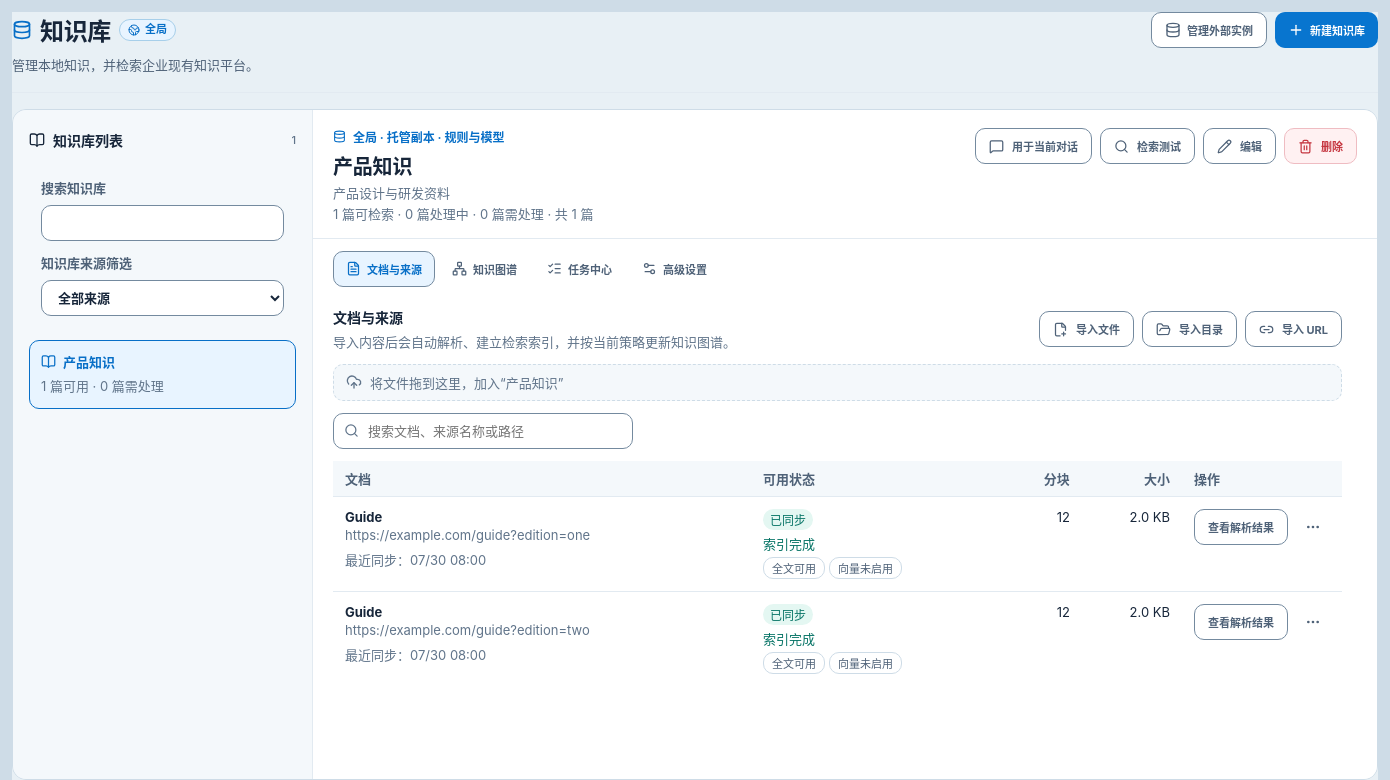
Test: KnowledgeWorkspace › distinguishes merged URLs with the same title and keeps secondary actions in a keyboard menu
The image size is (1390, 780).
Expected: the text "https://example.com/guide?edition=one" is shown, [345, 525, 625, 545]
Expected: the button "查看解析结果" in the row of "https://example.com/guide?edition=one" is shown, [1194, 509, 1288, 545]
Click the button named "Guide 的更多操作" in the row of "https://example.com/guide?edition=two" at point(1313, 622), box [1296, 605, 1330, 639]
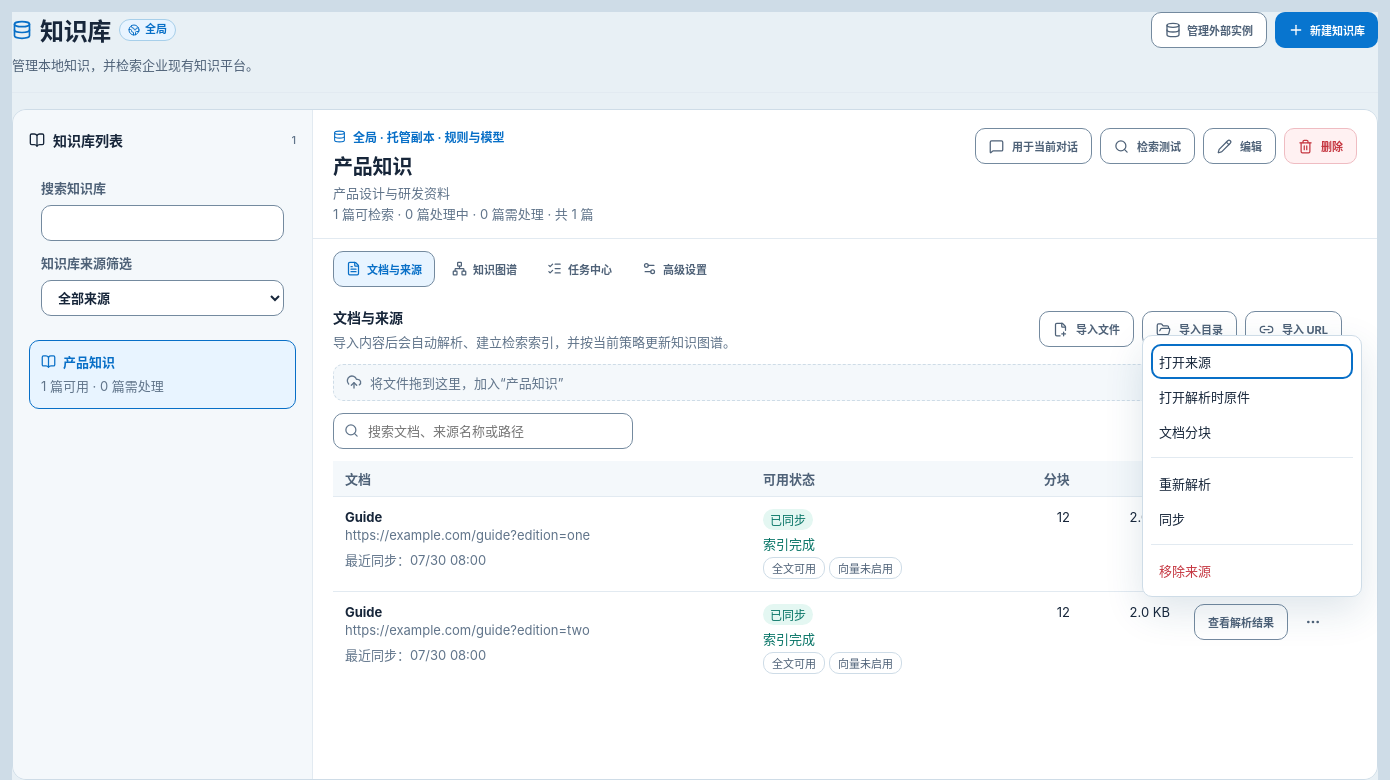
Press End in the menu item "打开来源", box [1151, 344, 1353, 379]
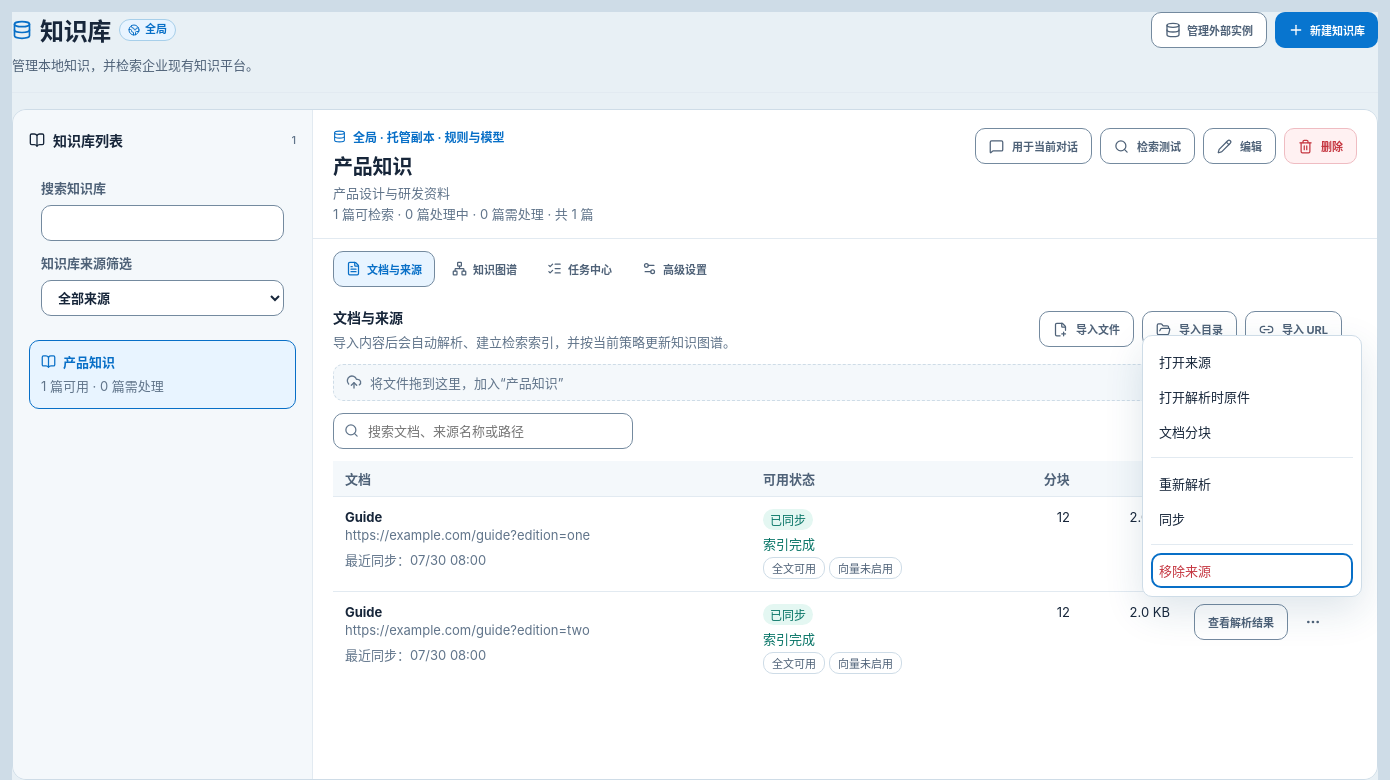
Press Escape in the menu item "移除来源", box [1151, 553, 1353, 588]
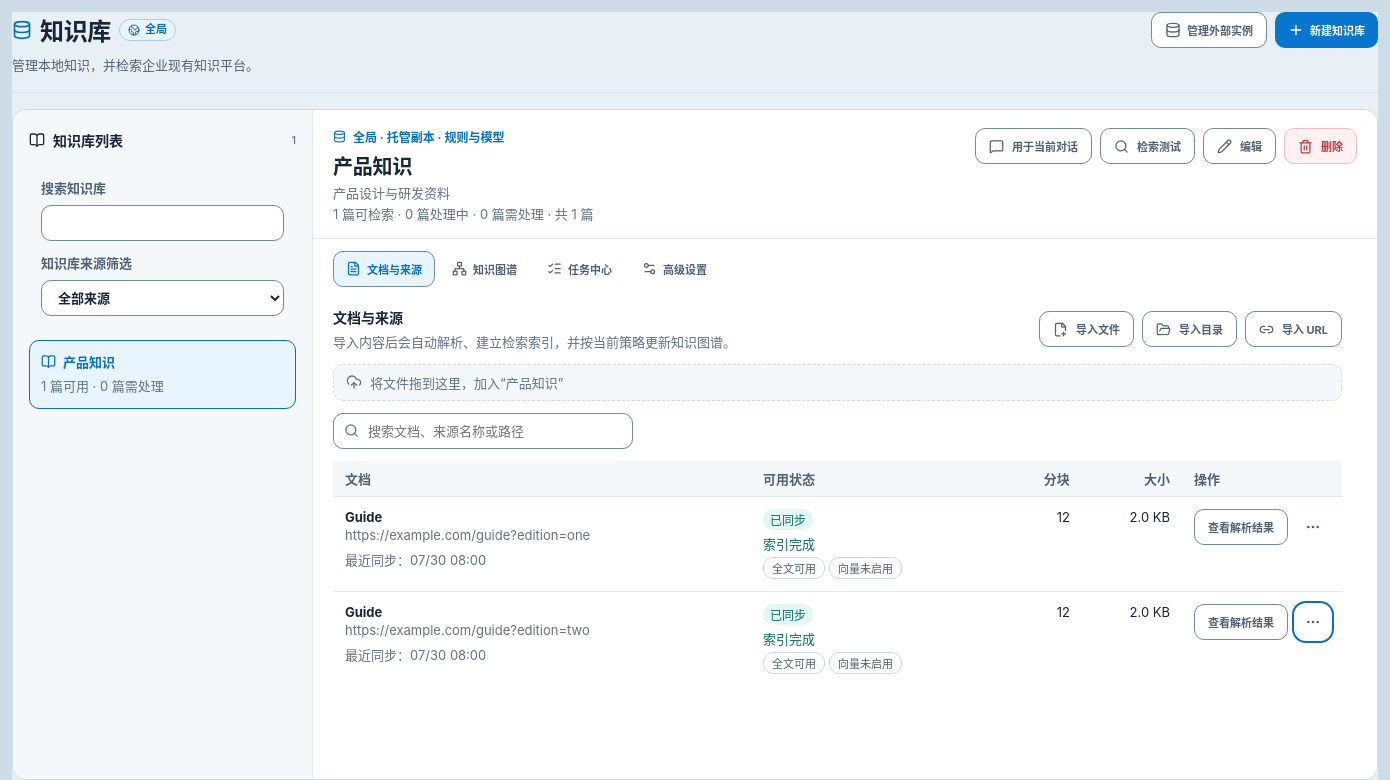
Now the menu is gone
Click the button named "Guide 的更多操作" in the row of "https://example.com/guide?edition=two" at point(1313, 622), box [1296, 605, 1330, 639]
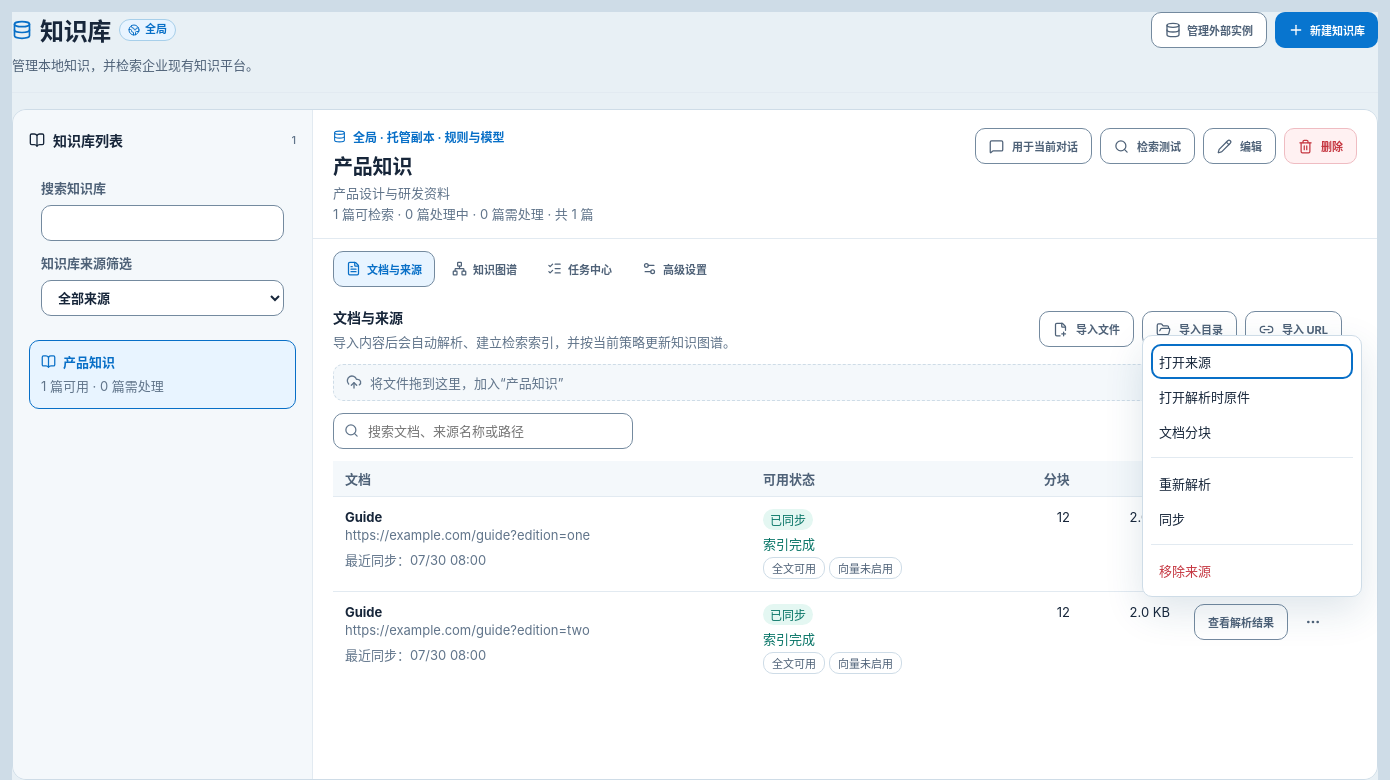
Click the menu item "打开来源" at point(1252, 361), box [1151, 344, 1353, 379]
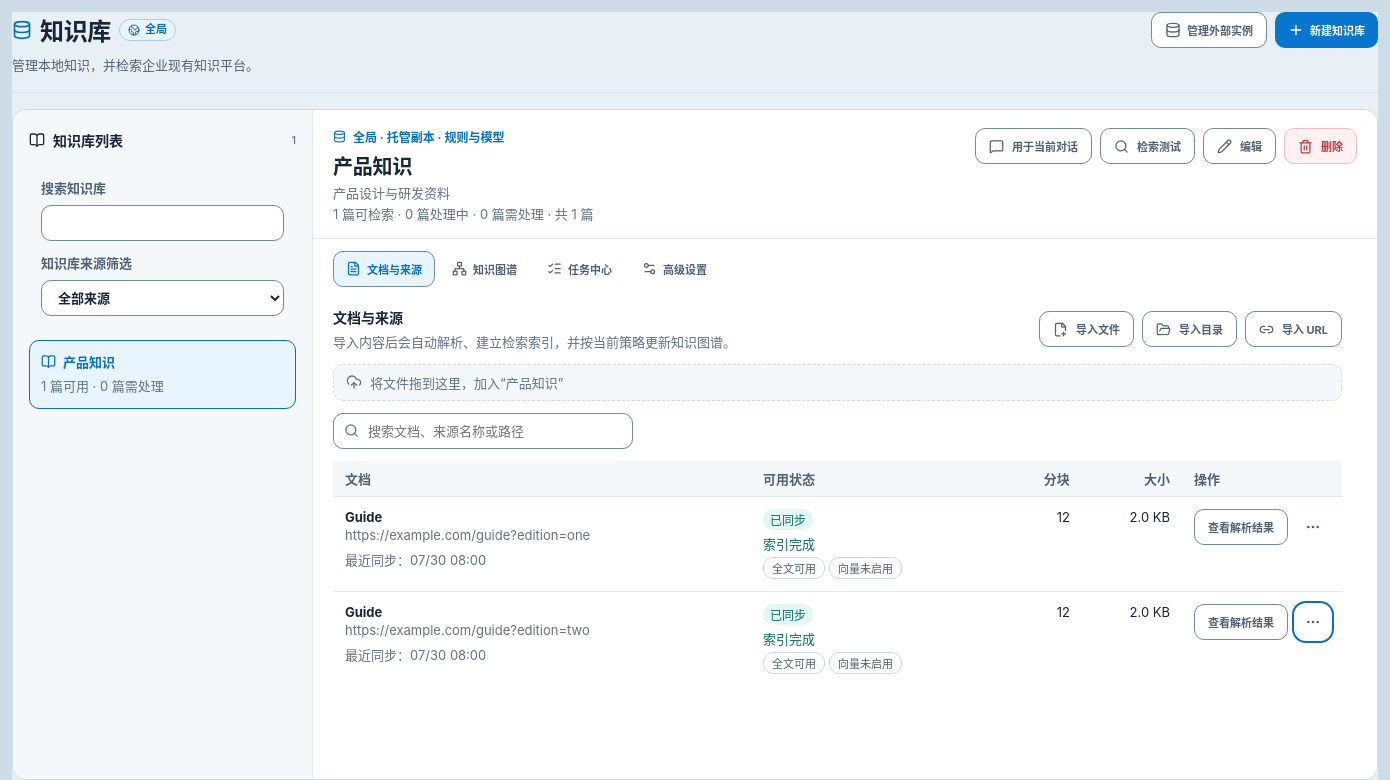
Type "edition=two" into the search field named "搜索文档与来源" at point(483, 431), box [333, 413, 633, 449]
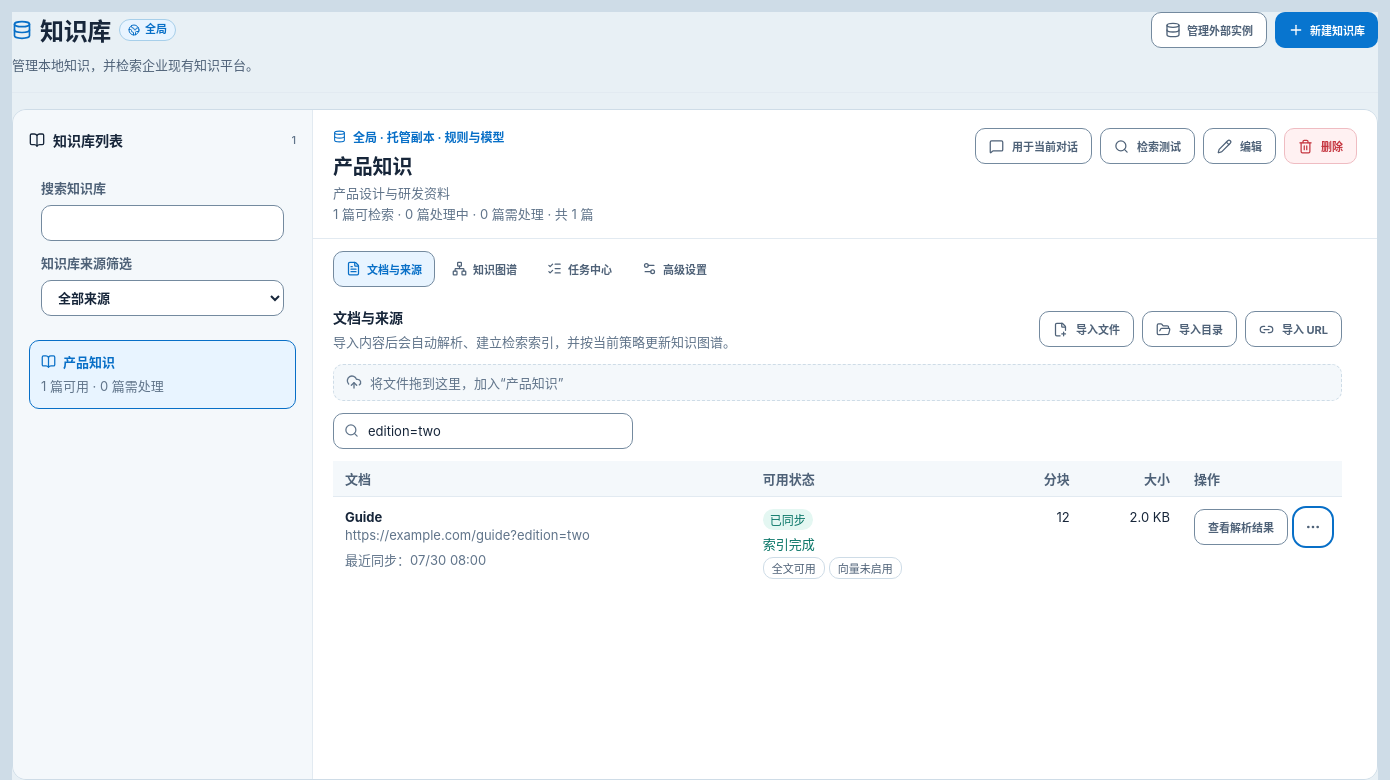
Now the number of rows is 2, box [333, 461, 1342, 496]; [333, 496, 1342, 591]
Now the text "https://example.com/guide?edition=one" is gone
